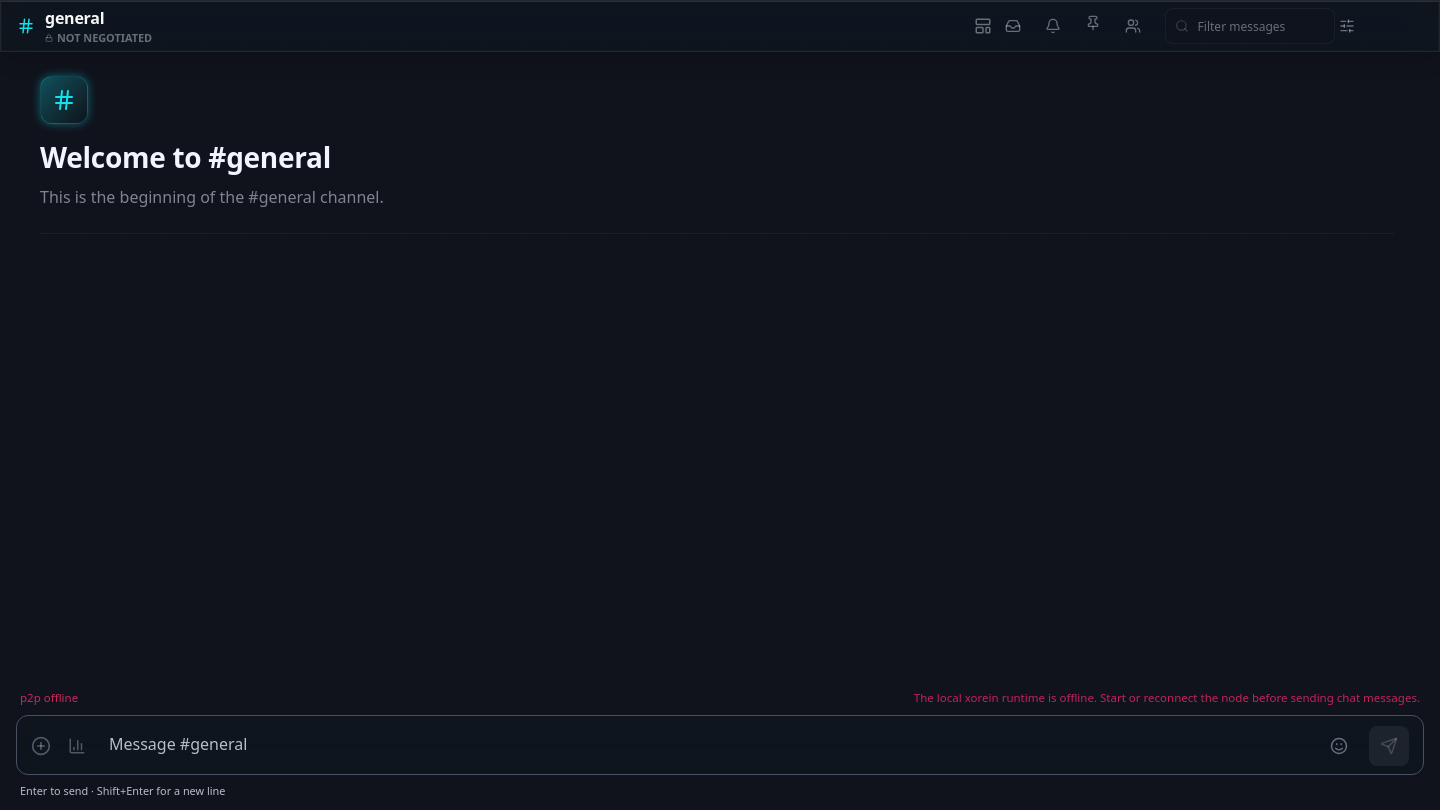
Test: ChatArea advanced search reachability › opens the SearchPanel from the header Advanced search button
The width and height of the screenshot is (1440, 810).
Click the button named "Advanced search" at (1357, 26), box top-left (1339, 8), bottom-right (1375, 44)
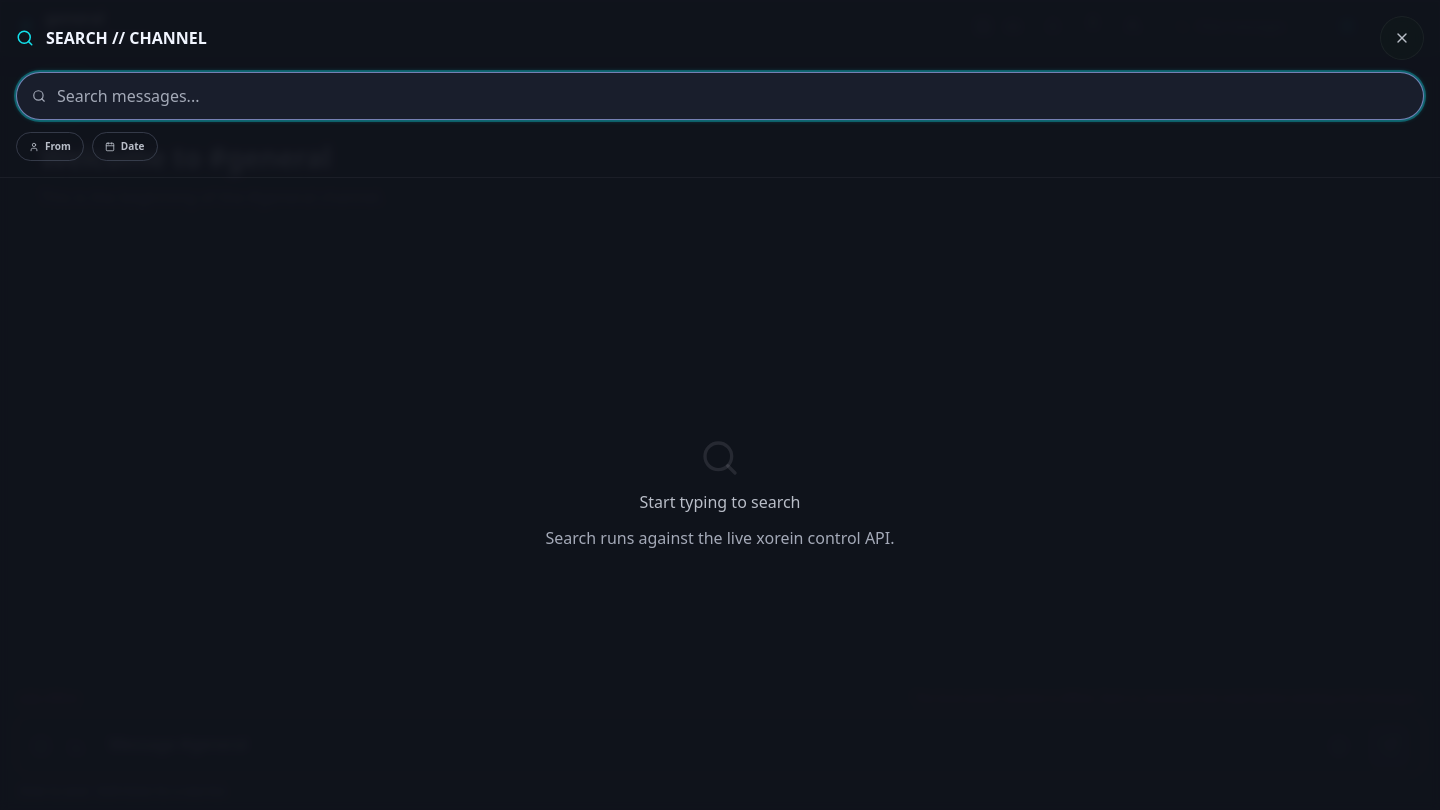
Result: the dialog named "Search messages" is shown
